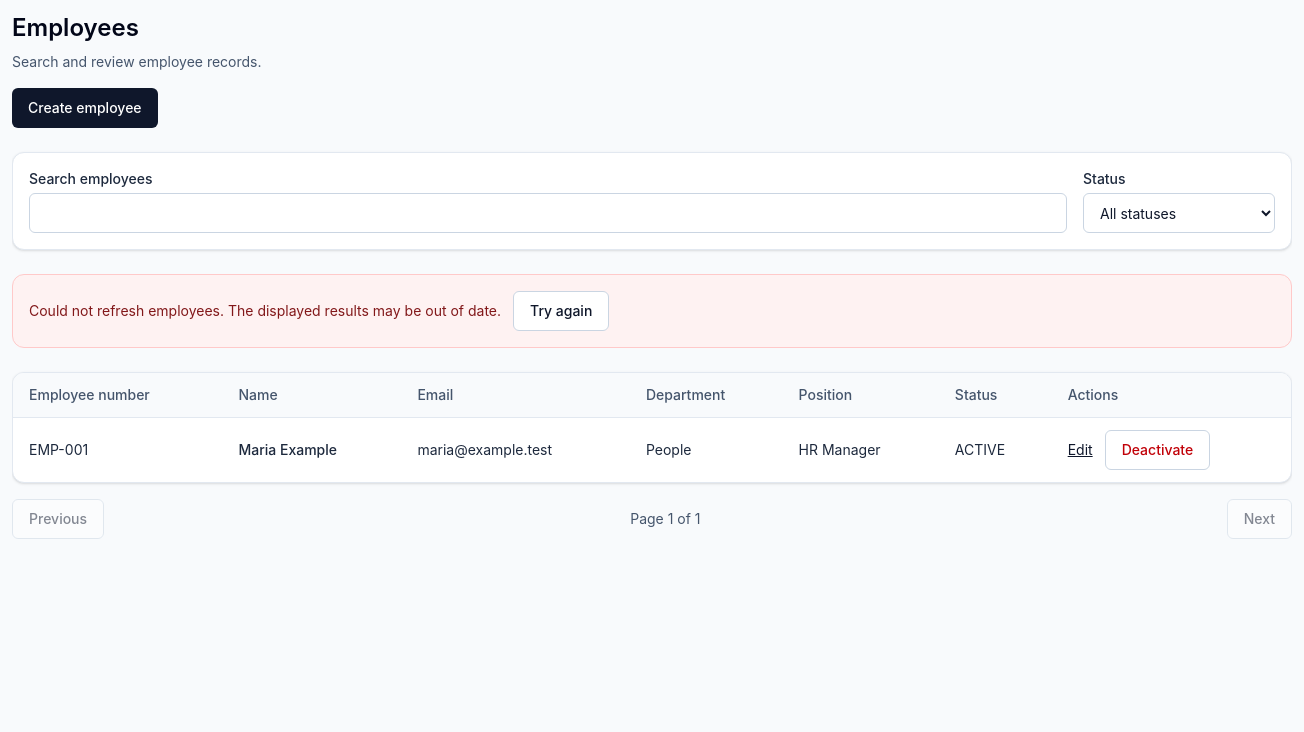
Test: EmployeeManagementPage › keeps cached rows visible and retries a failed background refresh
This screenshot has width=1304, height=732.
Expected: the row "EMP-001 Maria Example" is shown, [13, 418, 1291, 482]
Expected: the message shows "Could not refresh employees", [29, 302, 501, 319]
Click the button "Try again".
click(561, 311)  # box [513, 291, 609, 331]
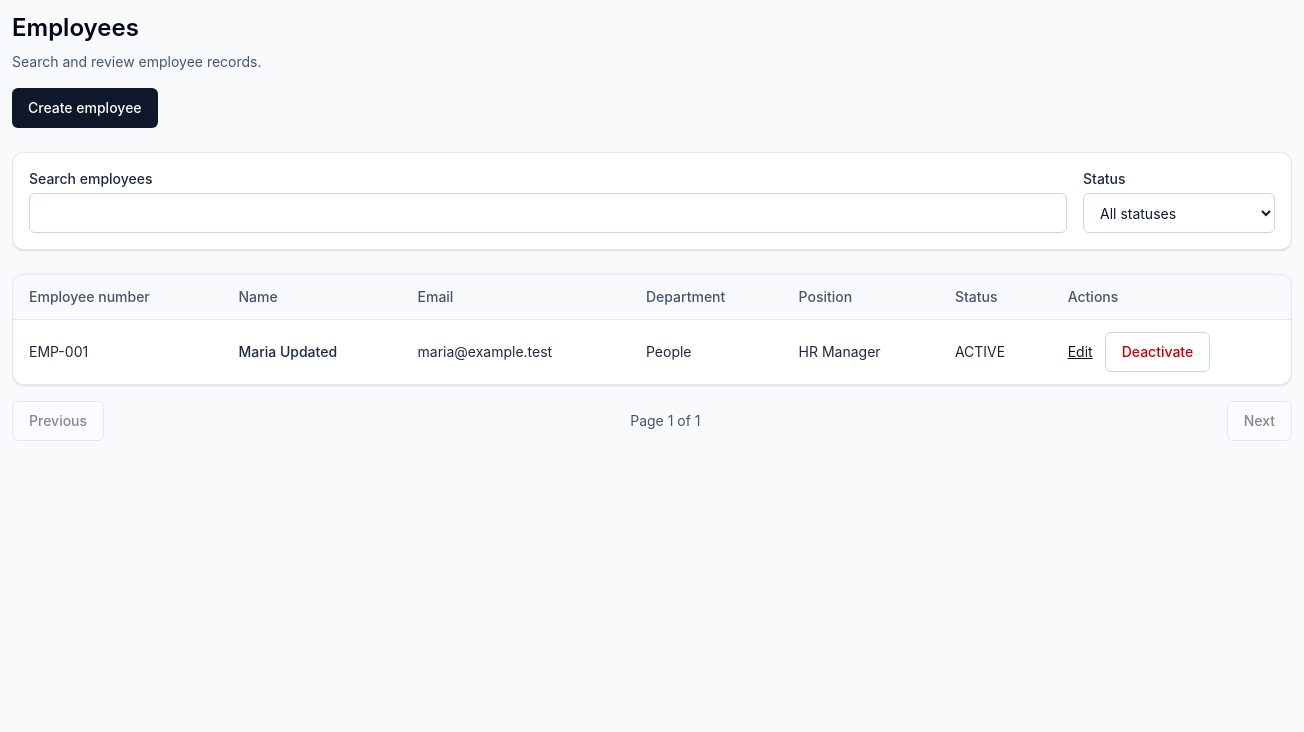
Now the row "EMP-001 Maria Updated" is shown, box [13, 320, 1291, 384]
Now the message "Could not refresh employees. The displayed results may be out of date." is gone
